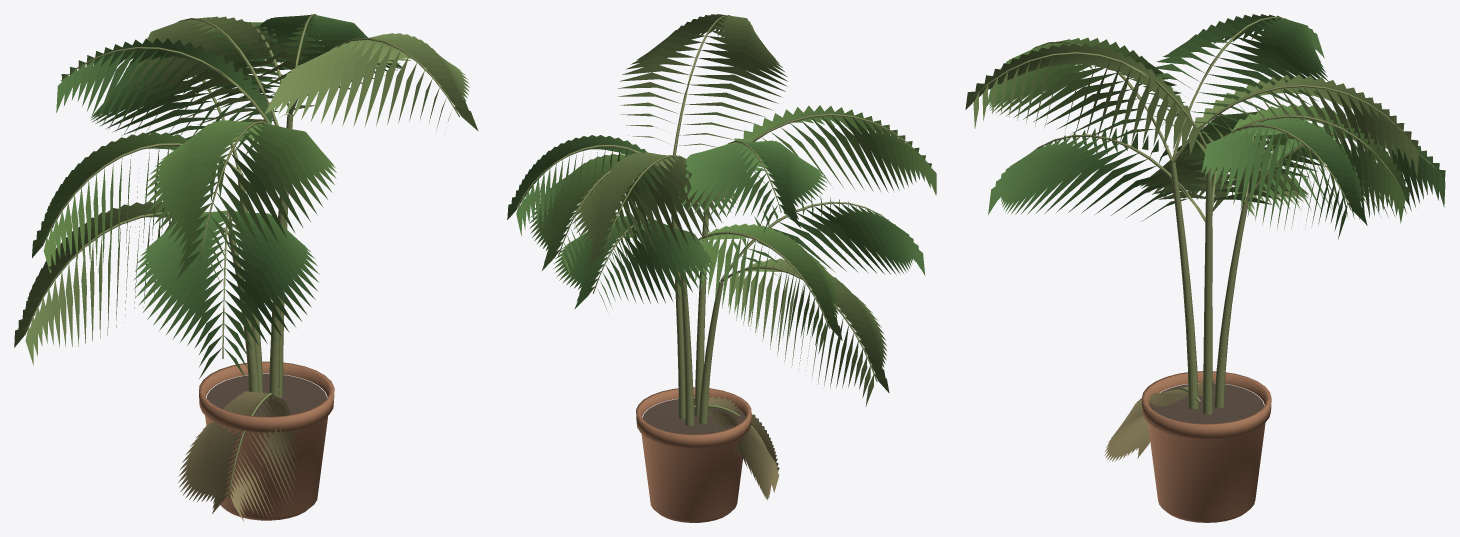
Rendered from palm.glb.
3 views of the same model, side by side, from view 1: azimuth 30°, elevation 25°; view 2: azimuth 150°, elevation 25°; view 3: azimuth 270°, elevation 25° (orthographic). The views are drawn at different scales.
Parts seen in each view (by area): view 1: leaves, pot, stems, soil; view 2: leaves, pot, stems, soil; view 3: leaves, pot, stems, soil.
Part boxes in pixels (<box>): leaves: <box>14,15,478,521</box>; pot: <box>199,361,334,520</box>; stems: <box>24,14,459,497</box>; soil: <box>206,374,326,416</box>; leaves: <box>507,14,936,499</box>; pot: <box>636,387,751,522</box>; stems: <box>516,15,917,446</box>; soil: <box>642,398,744,434</box>; leaves: <box>965,14,1445,461</box>; pot: <box>1141,371,1271,522</box>; stems: <box>970,16,1442,414</box>; soil: <box>1149,383,1263,423</box>.
Size of the model in its own units: 1.35 by 1.61 by 1.48.
